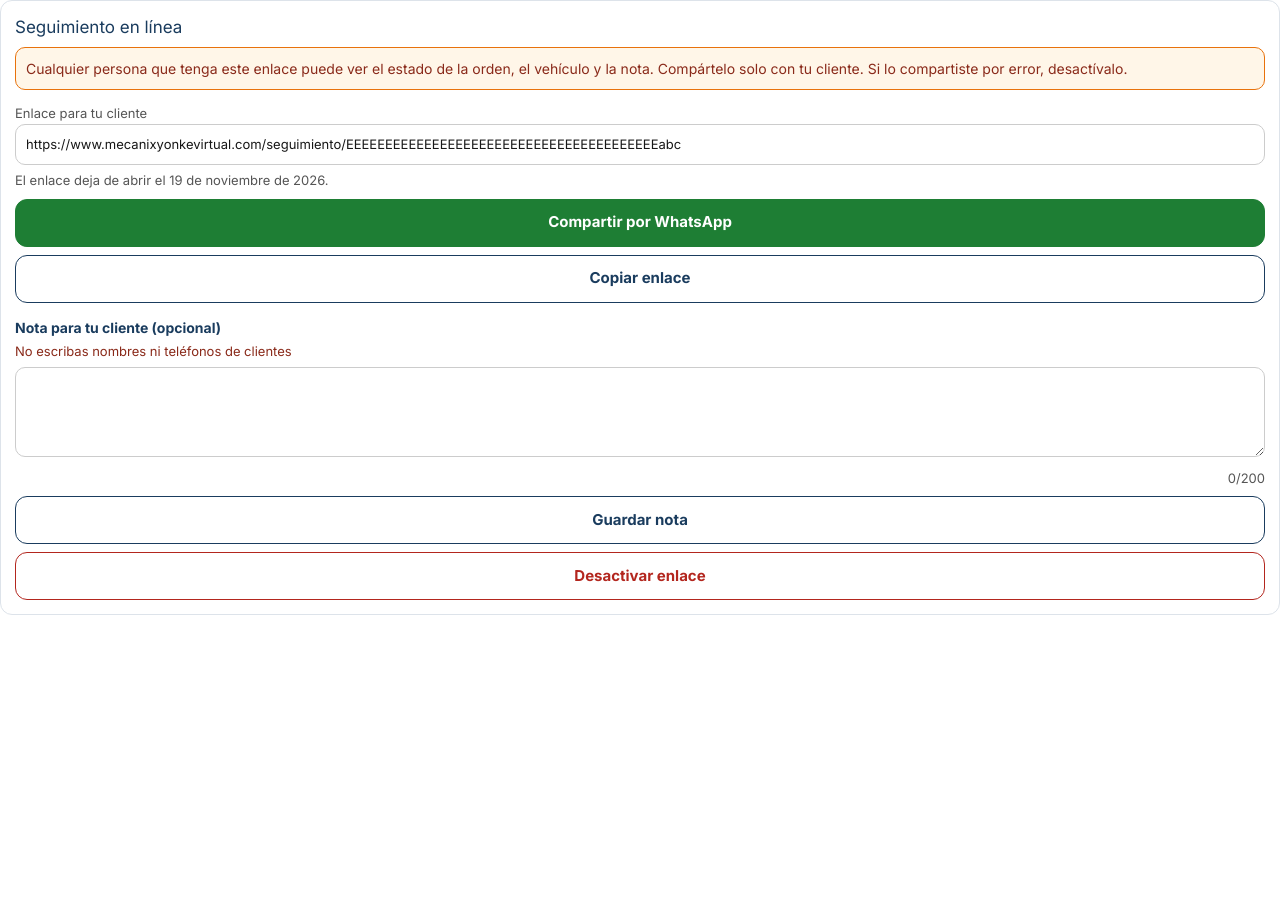
Test case: enlace activo › nota con teléfono: se rechaza en la app sin guardar
The width and height of the screenshot is (1280, 900).
Step 1. Type "Llámame al 6641234567" into the text box labelled "Nota para tu cliente (opcional)" → {"x": 640, "y": 412}, box [15,367,1265,456]
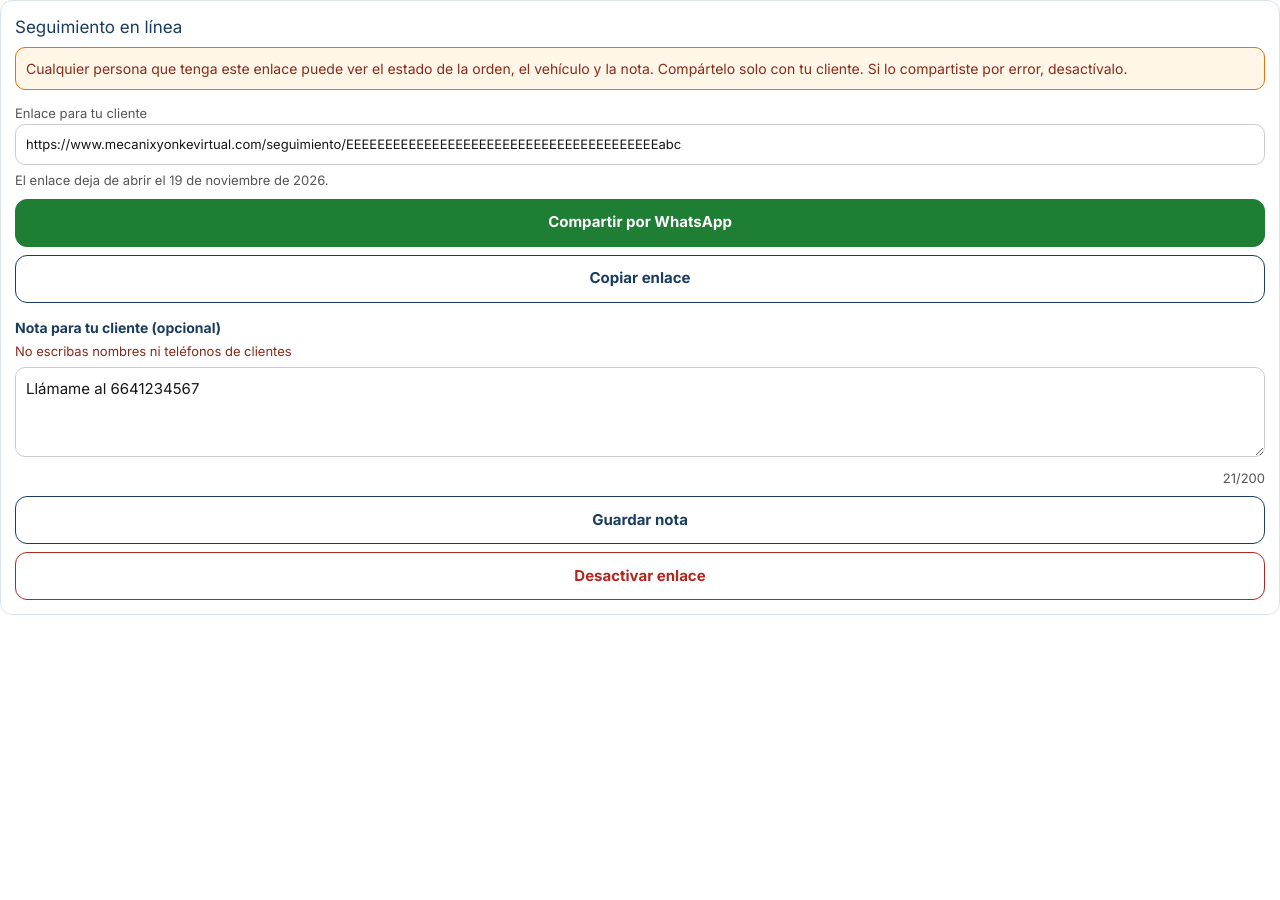
Step 2. Click the button "Guardar nota" → {"x": 640, "y": 520}, box [15,496,1265,544]
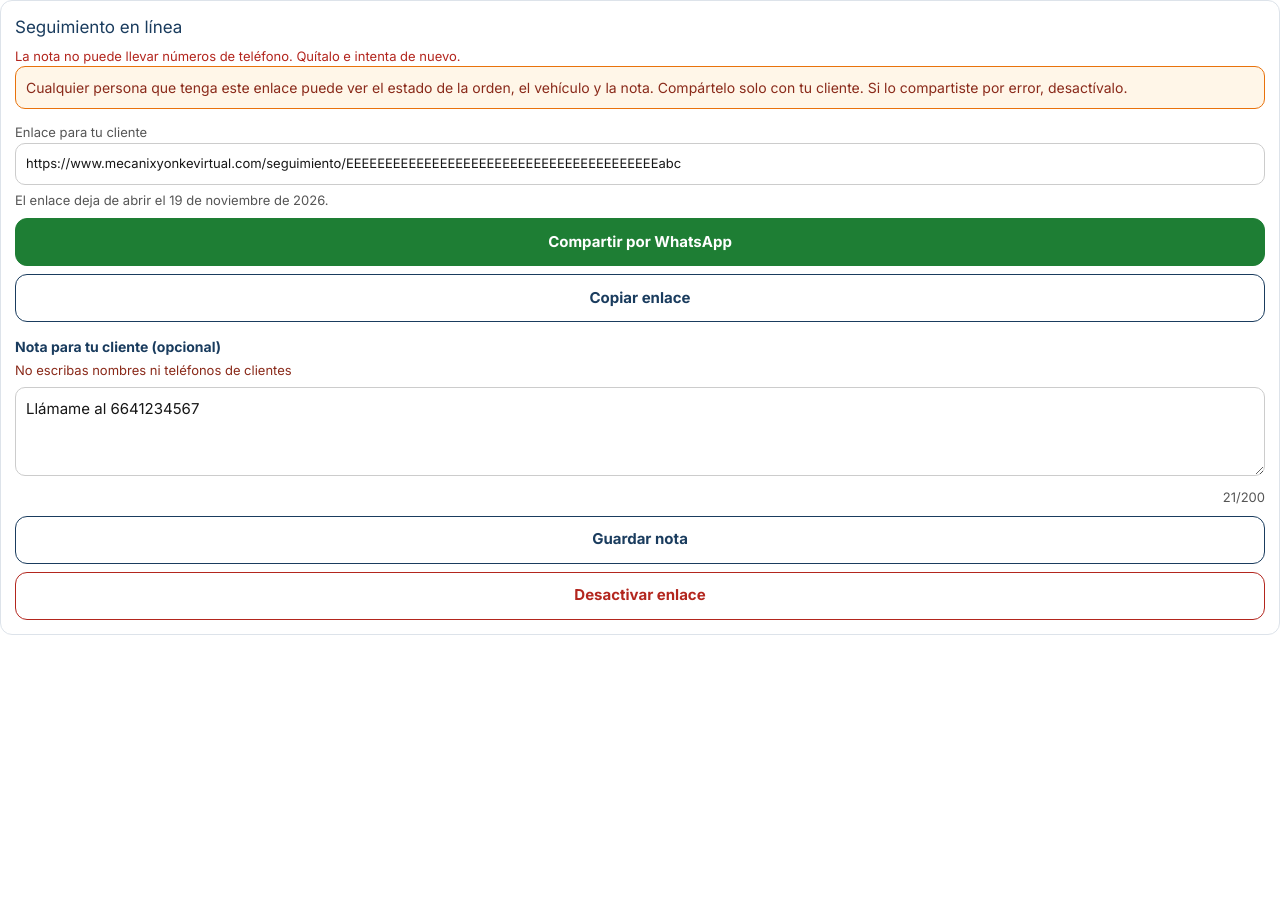
Check: the message reads "La nota no puede llevar números de teléfono. Quítalo e intenta de nuevo.", box [15,48,461,64]
